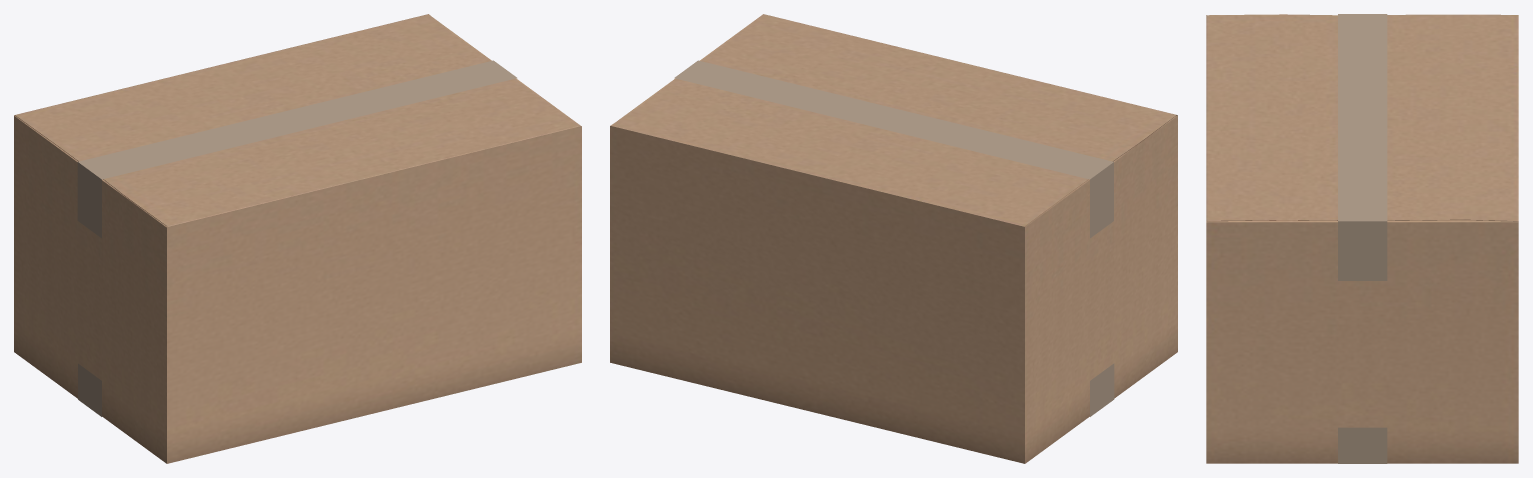
Rendered from sweethome3d-scopia-cardboard-box-173.glb.
The picture shows the model from 3 angles, left to right: view 1: azimuth 30°, elevation 25°; view 2: azimuth 150°, elevation 25°; view 3: azimuth 270°, elevation 25°; orthographic projection. The views are drawn at different scales.
Visible parts, largest first — view 1: Cube_Cube.001, Plane, Plane.001; view 2: Cube_Cube.001, Plane, Plane.001; view 3: Cube_Cube.001, Plane, Plane.001.
Boxes of the visible parts, x1,y1,x2,y2 form: Cube_Cube.001: [14, 14, 581, 463]; Plane: [77, 60, 517, 238]; Plane.001: [78, 363, 101, 416]; Cube_Cube.001: [610, 14, 1177, 463]; Plane: [674, 60, 1113, 238]; Plane.001: [1090, 363, 1114, 416]; Cube_Cube.001: [1206, 14, 1518, 463]; Plane: [1338, 14, 1387, 280]; Plane.001: [1338, 427, 1387, 463].
Size of the model in its own units: 55 by 30.04 by 35.
Materials: 2 (1 with a texture image).
